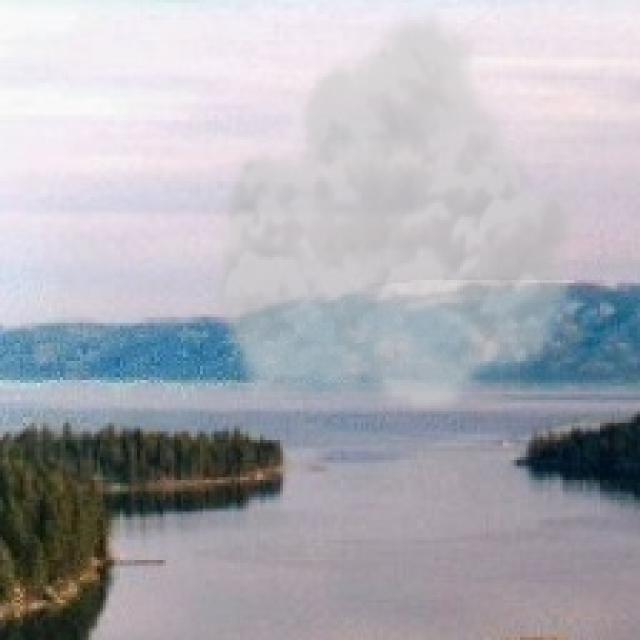smoke: (208, 6, 586, 417)
